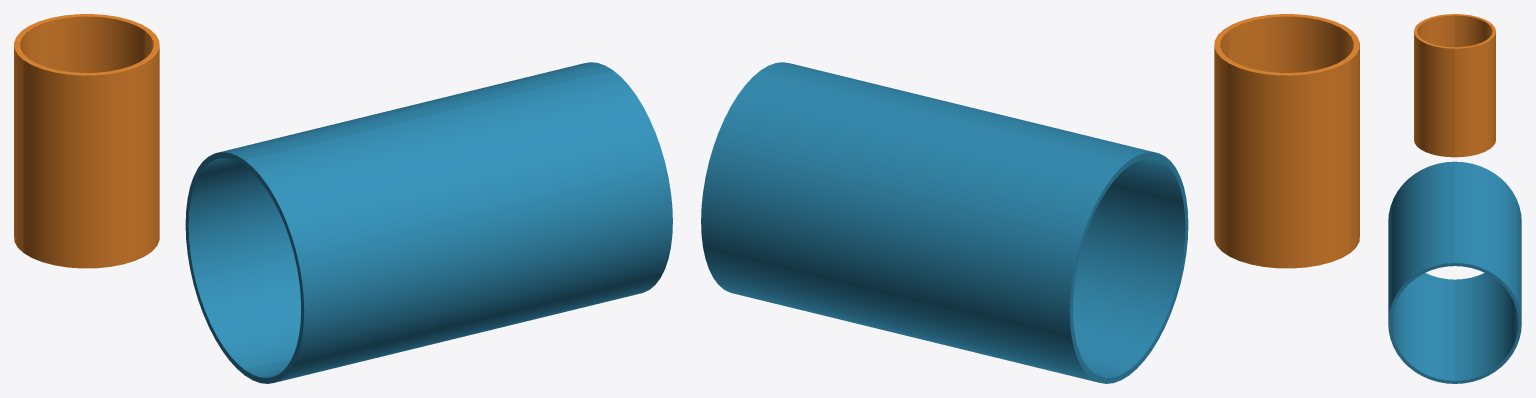
Rendered from condensate_recovery_system_pressure.glb.
3 renders of one model, left to right at view 1: azimuth 30°, elevation 25°; view 2: azimuth 150°, elevation 25°; view 3: azimuth 270°, elevation 25°, orthographic. The views are drawn at different scales.
Parts seen in each view (by area): view 1: pressure__front, pressure__back; view 2: pressure__back, pressure__front; view 3: pressure__back, pressure__front.
Boxes of the visible parts, bbox=[...] form: pressure__front: bbox=[23, 29, 672, 383]; pressure__back: bbox=[14, 14, 612, 375]; pressure__back: bbox=[701, 29, 1350, 383]; pressure__front: bbox=[761, 14, 1359, 375]; pressure__back: bbox=[1455, 14, 1521, 383]; pressure__front: bbox=[1388, 14, 1454, 383].
Size of the model in its own units: 2.24 by 1.34 by 0.78.
